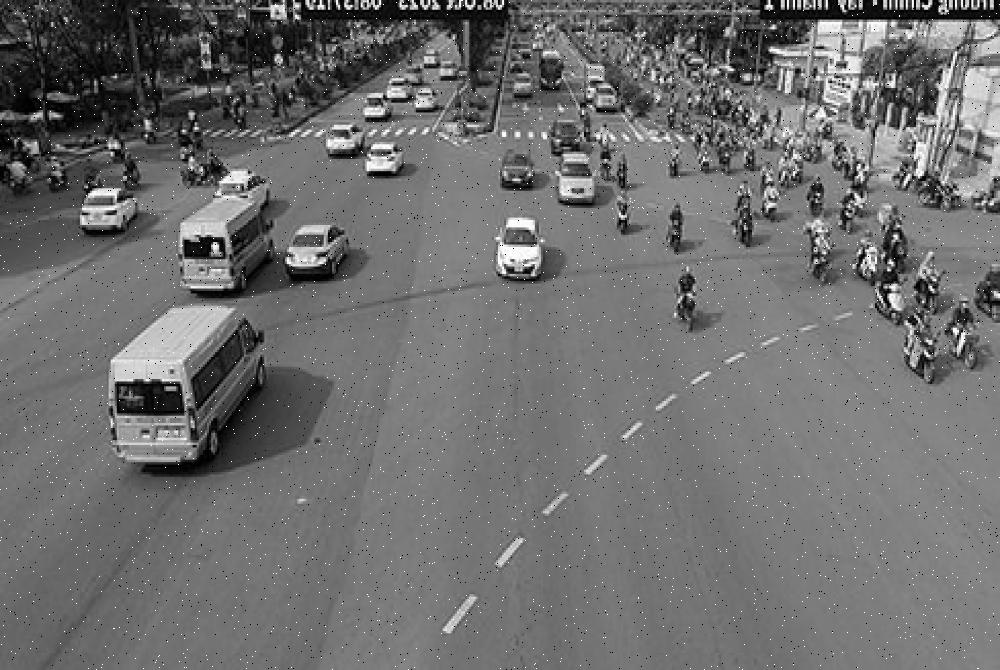car: (106, 304, 264, 471), (178, 203, 272, 294), (284, 224, 349, 283), (492, 217, 545, 280), (78, 187, 138, 237), (212, 168, 270, 212), (556, 151, 596, 205), (499, 147, 533, 188), (364, 142, 403, 176), (325, 124, 364, 158), (550, 118, 580, 157), (361, 92, 391, 121)
